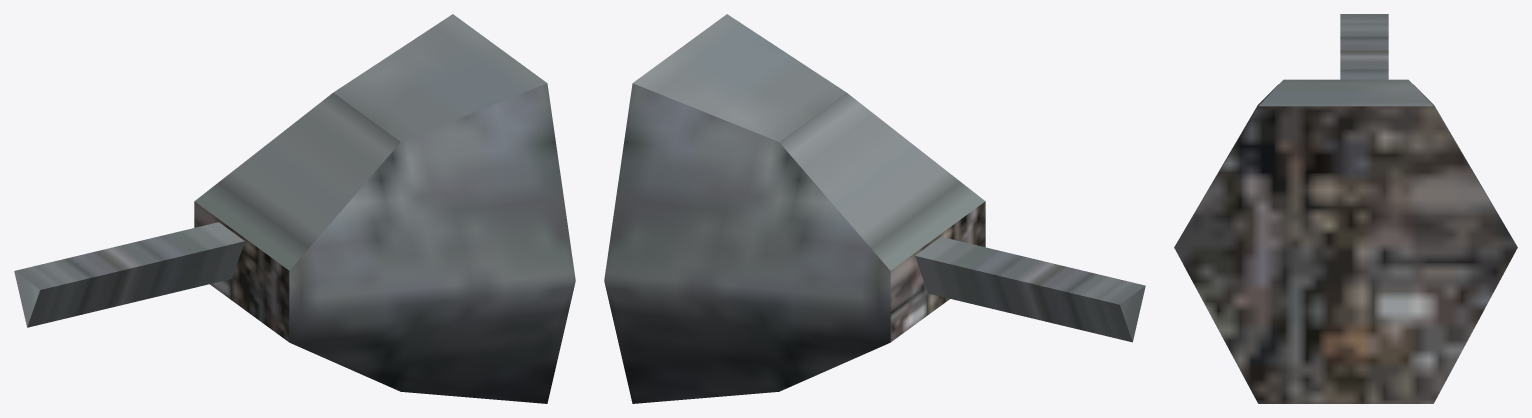
File: tie_fighter_debris_d_l1.fbx
3 renders of one model, left to right at view 1: azimuth 30°, elevation 25°; view 2: azimuth 150°, elevation 25°; view 3: azimuth 270°, elevation 25°, orthographic. The views are drawn at different scales.
Parts seen in each view (by area): view 1: mesh_node; view 2: mesh_node; view 3: mesh_node.
Part boxes in pixels (x1=…): mesh_node: x1=14, y1=14, x2=575, y2=403; mesh_node: x1=604, y1=14, x2=1145, y2=403; mesh_node: x1=1174, y1=14, x2=1517, y2=403.
Bounding box in the file's own units: 1.47 × 0.9726 × 1.02.
